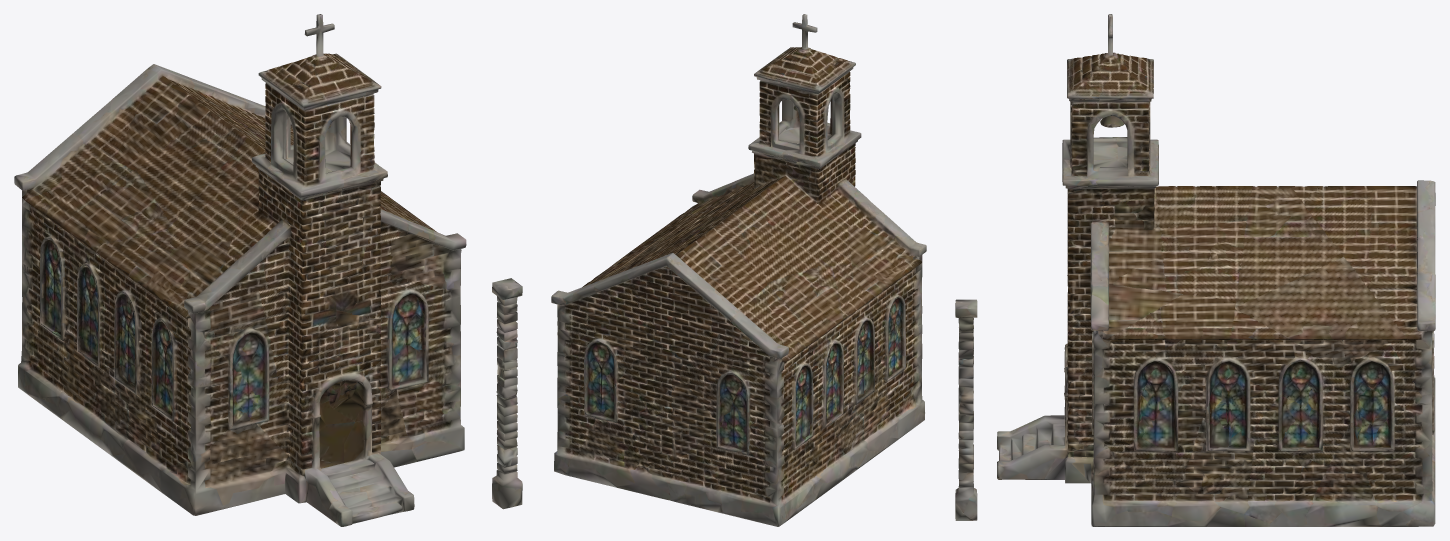
Rendered from church.glb.
3 renders of one model, left to right at view 1: azimuth 30°, elevation 25°; view 2: azimuth 150°, elevation 25°; view 3: azimuth 270°, elevation 25°, orthographic. The views are drawn at different scales.
Visible parts, largest first — view 1: church; view 2: church; view 3: church.
Part boxes in pixels (left/top/right/bottom): church: left=14, top=14, right=522, bottom=526; church: left=551, top=14, right=926, bottom=526; church: left=955, top=14, right=1435, bottom=526.
Size of the model in its own units: 7.59 by 12 by 11.66.
Materials: 1 (1 with a texture image).
